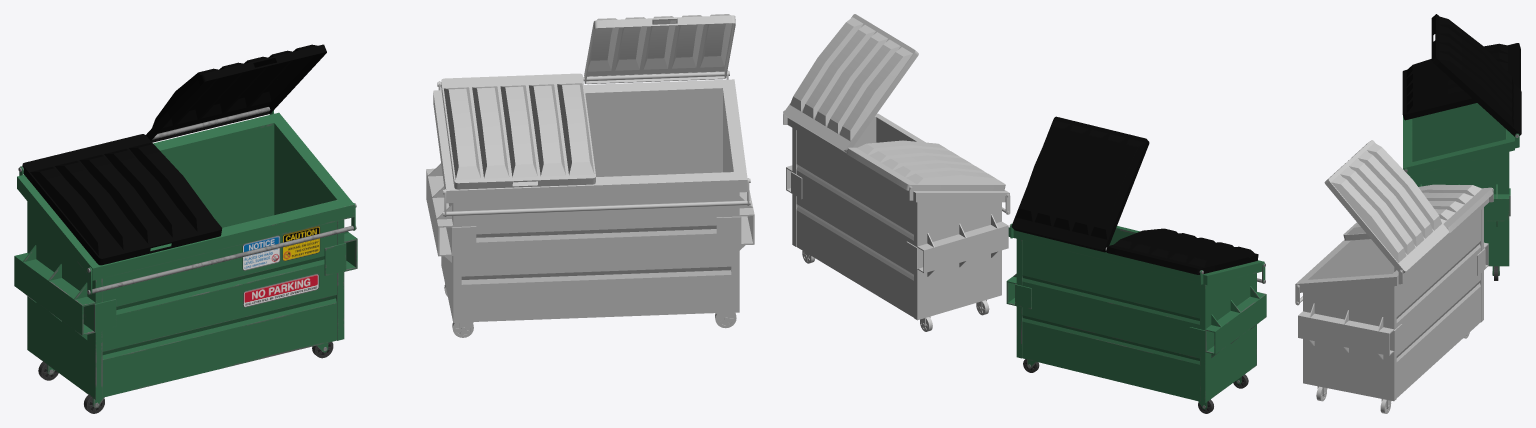
The picture shows the model from 3 angles, left to right: view 1: azimuth 30°, elevation 25°; view 2: azimuth 150°, elevation 25°; view 3: azimuth 270°, elevation 25°; orthographic projection. The views are drawn at different scales.
Visible parts, largest first — view 1: Base_01_Dumpster_01_0, Base_02_Dumpster_02_0, Cap_03_Dumpster_02_0, Cap_01_Dumpster_01_0, Cap_04_Dumpster_02_0, Cap_02_Dumpster_01_0; view 2: Base_01_Dumpster_01_0, Base_02_Dumpster_02_0, Cap_02_Dumpster_01_0, Cap_04_Dumpster_02_0, Cap_03_Dumpster_02_0, Cap_01_Dumpster_01_0; view 3: Base_02_Dumpster_02_0, Base_01_Dumpster_01_0, Cap_04_Dumpster_02_0, Cap_02_Dumpster_01_0, Cap_01_Dumpster_01_0, Cap_03_Dumpster_02_0.
Part boxes in pixels (x1,y1,x2,y2): Base_01_Dumpster_01_0: [14, 107, 357, 399]; Base_02_Dumpster_02_0: [426, 71, 754, 322]; Cap_03_Dumpster_02_0: [441, 73, 595, 189]; Cap_01_Dumpster_01_0: [22, 134, 222, 265]; Cap_04_Dumpster_02_0: [584, 14, 735, 83]; Cap_02_Dumpster_01_0: [146, 44, 326, 142]; Base_01_Dumpster_01_0: [1006, 223, 1266, 402]; Base_02_Dumpster_02_0: [783, 110, 1010, 320]; Cap_02_Dumpster_01_0: [1011, 116, 1149, 252]; Cap_04_Dumpster_02_0: [783, 14, 918, 152]; Cap_03_Dumpster_02_0: [846, 140, 1005, 190]; Cap_01_Dumpster_01_0: [1106, 228, 1258, 274]; Base_02_Dumpster_02_0: [1295, 188, 1493, 401]; Base_01_Dumpster_01_0: [1403, 103, 1519, 266]; Cap_04_Dumpster_02_0: [1324, 140, 1448, 273]; Cap_02_Dumpster_01_0: [1431, 14, 1521, 136]; Cap_01_Dumpster_01_0: [1402, 43, 1520, 120]; Cap_03_Dumpster_02_0: [1343, 184, 1493, 240].
Bounding box in the file's own units: 4.94 × 2.23 × 2.02.
